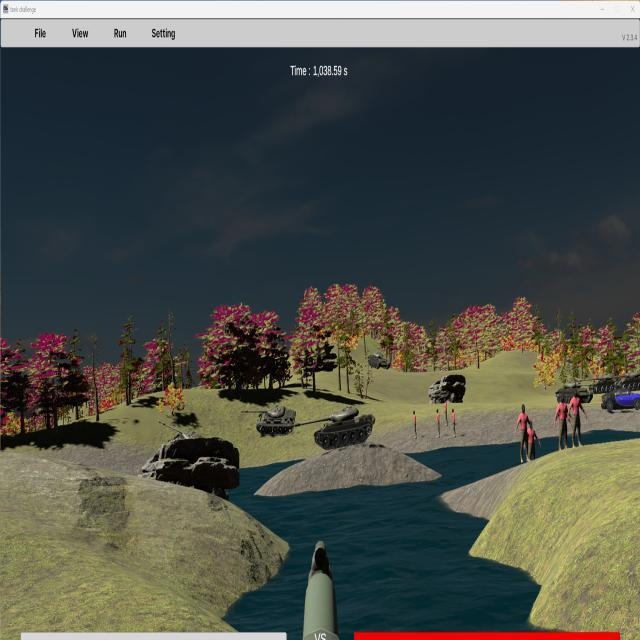Human: (568, 387, 587, 452), (554, 392, 573, 457), (516, 403, 533, 466)
Tank: (274, 404, 376, 450), (240, 404, 296, 436), (555, 378, 597, 404), (368, 351, 391, 370)
car: (602, 383, 640, 412)
